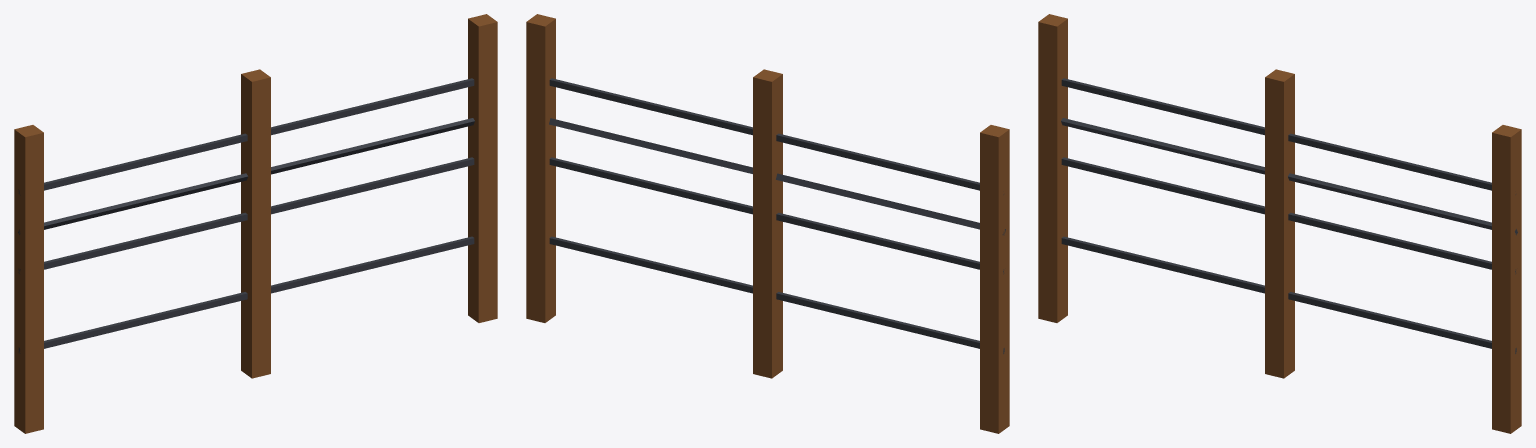
Rendered from barbed_fence.glb.
3 renders of one model, left to right at view 1: azimuth 30°, elevation 25°; view 2: azimuth 150°, elevation 25°; view 3: azimuth 330°, elevation 25°, orthographic.
Visible parts, largest first — view 1: barbed_fence; view 2: barbed_fence; view 3: barbed_fence.
Boxes of the visible parts, left/top/right/bottom form: barbed_fence: left=14, top=14, right=497, bottom=433; barbed_fence: left=526, top=14, right=1009, bottom=433; barbed_fence: left=1038, top=14, right=1521, bottom=433.
Size of the model in its own units: 2.5 by 1.5 by 0.1.
